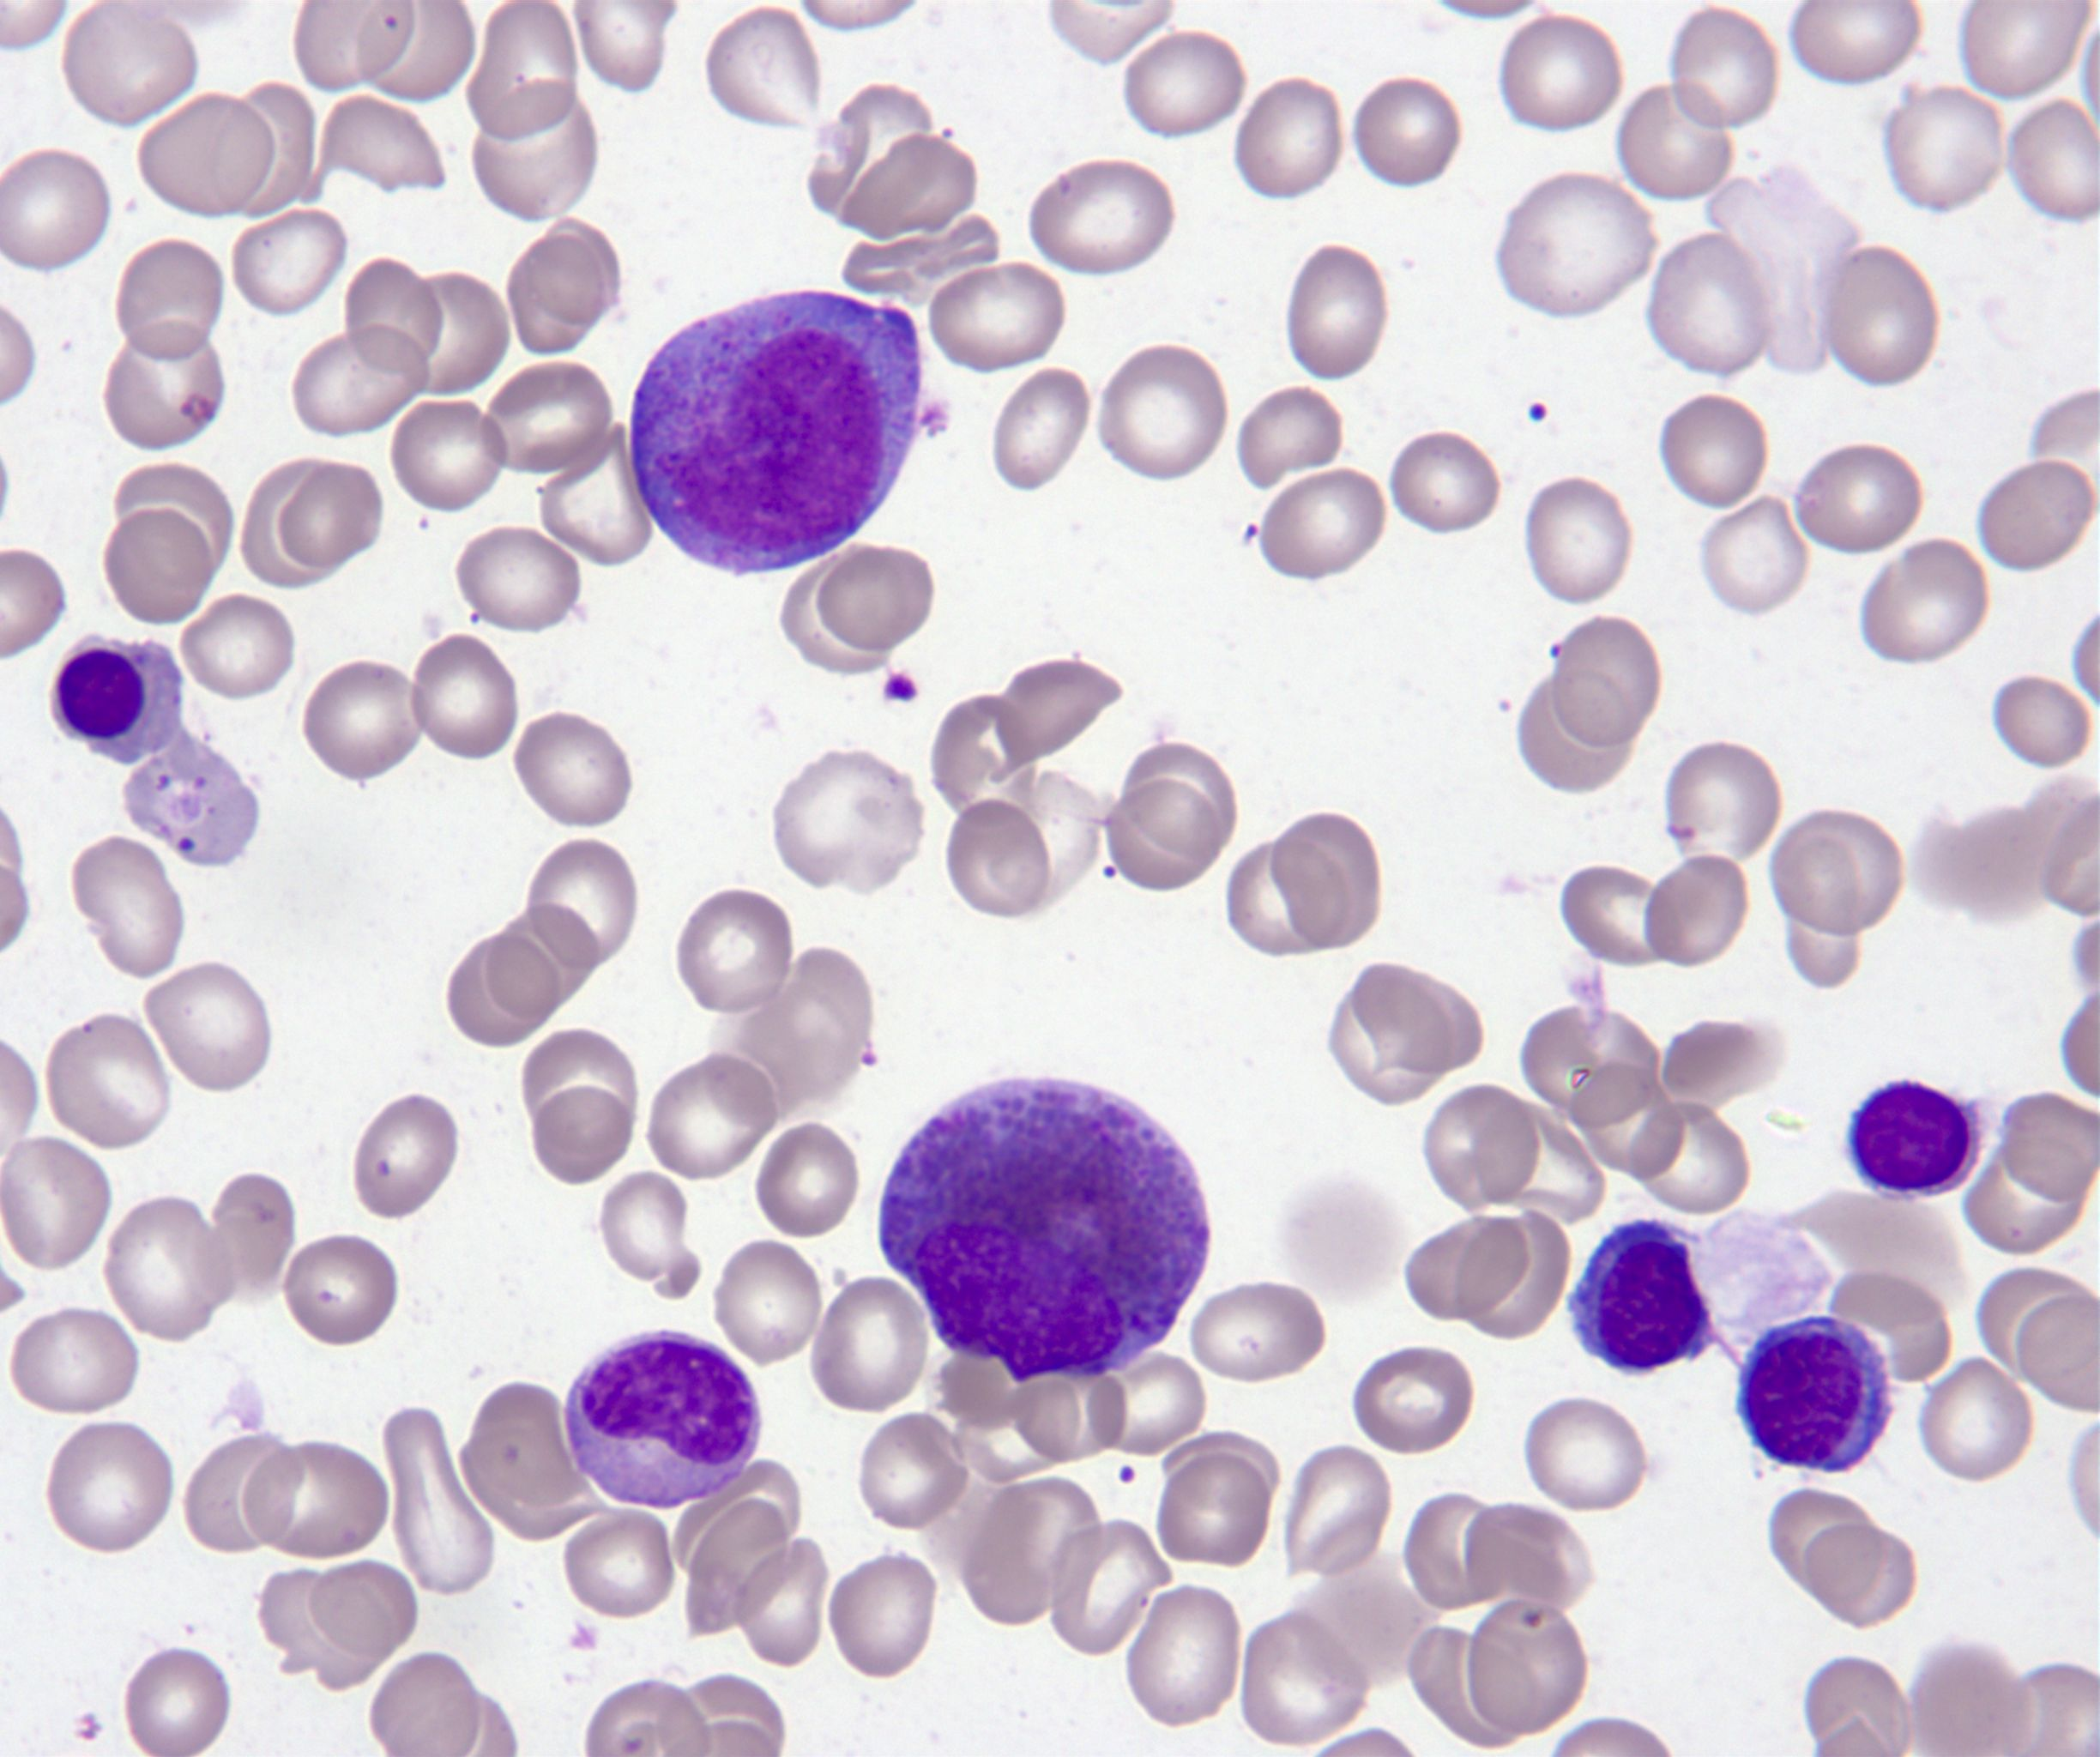2: (631, 291, 923, 572)
23: (1734, 1316, 1892, 1474), (1566, 1221, 1716, 1373)
24: (51, 633, 180, 764)
32: (1845, 1082, 1983, 1200)
4: (565, 1330, 762, 1507)
E1: (881, 1080, 1207, 1384)
